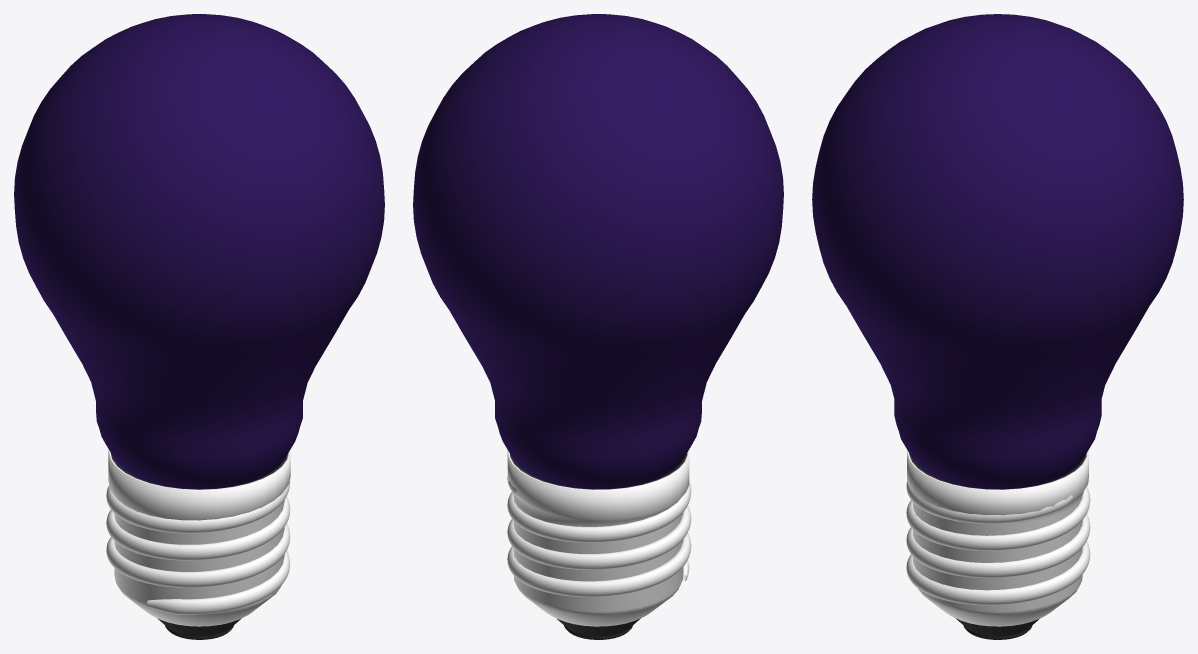
3 views of the same model, side by side, from view 1: azimuth 30°, elevation 25°; view 2: azimuth 150°, elevation 25°; view 3: azimuth 270°, elevation 25° (orthographic).
Parts seen in each view (by area): view 1: bulb, screwcap, bottomceramic; view 2: bulb, screwcap, bottomceramic; view 3: bulb, screwcap, bottomceramic.
Part boxes in pixels (left/top/right/bottom): bulb: left=14, top=14, right=384, bottom=489; screwcap: left=106, top=450, right=290, bottom=626; bottomceramic: left=158, top=619, right=240, bottom=639; bulb: left=413, top=14, right=783, bottom=489; screwcap: left=507, top=450, right=691, bottom=626; bottomceramic: left=557, top=618, right=640, bottom=639; bulb: left=812, top=14, right=1183, bottom=489; screwcap: left=906, top=450, right=1090, bottom=626; bottomceramic: left=956, top=618, right=1039, bottom=639.
Size of the model in its own units: 1.32 by 2.35 by 1.32.
